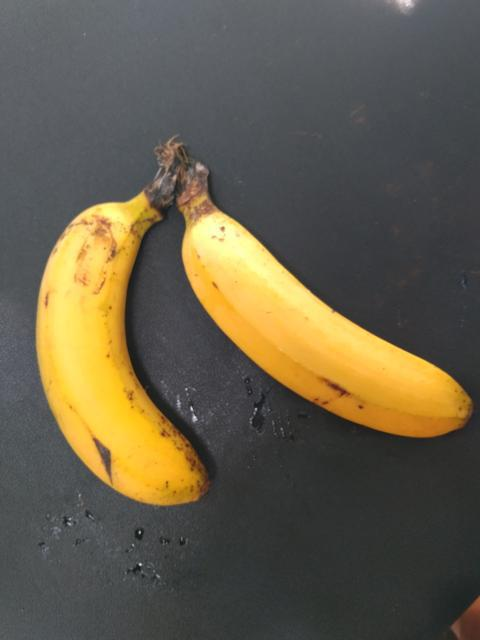freshripe: (171, 221, 479, 466)
ripe: (24, 193, 220, 521)
